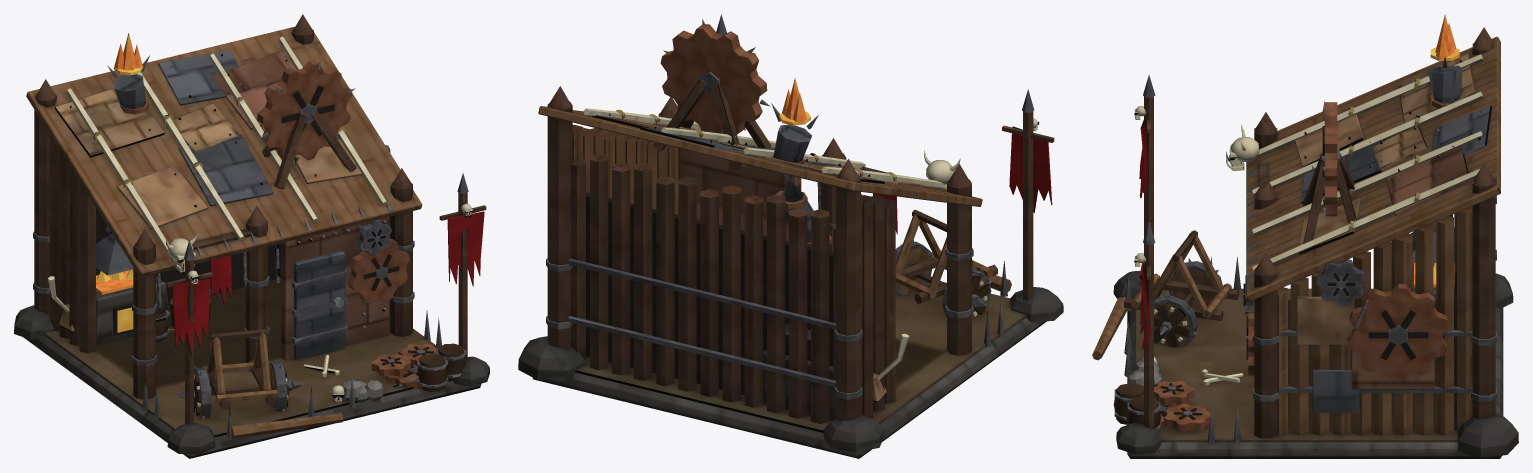
Rendered from orc_workshop.glb.
The picture shows the model from 3 angles, left to right: view 1: azimuth 30°, elevation 25°; view 2: azimuth 150°, elevation 25°; view 3: azimuth 270°, elevation 25°; orthographic projection. The views are drawn at different scales.
Visible parts, largest first — view 1: Static_Mesh, Anim_Banners; view 2: Static_Mesh, Anim_Banners; view 3: Static_Mesh, Anim_Banners.
Boxes of the visible parts, <box> form: Static_Mesh: <box>14,14,489,458</box>; Anim_Banners: <box>172,211,484,355</box>; Static_Mesh: <box>518,14,1063,458</box>; Anim_Banners: <box>715,126,1052,233</box>; Static_Mesh: <box>1092,14,1518,458</box>; Anim_Banners: <box>1139,120,1150,349</box>.
Bounding box in the file's own units: 7.88 × 7.07 × 8.22.
Materials: 2 (2 with a texture image).
